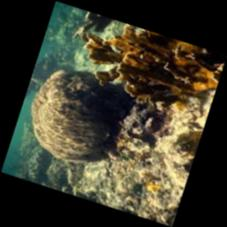bleached_corals: (16, 55, 138, 177)
